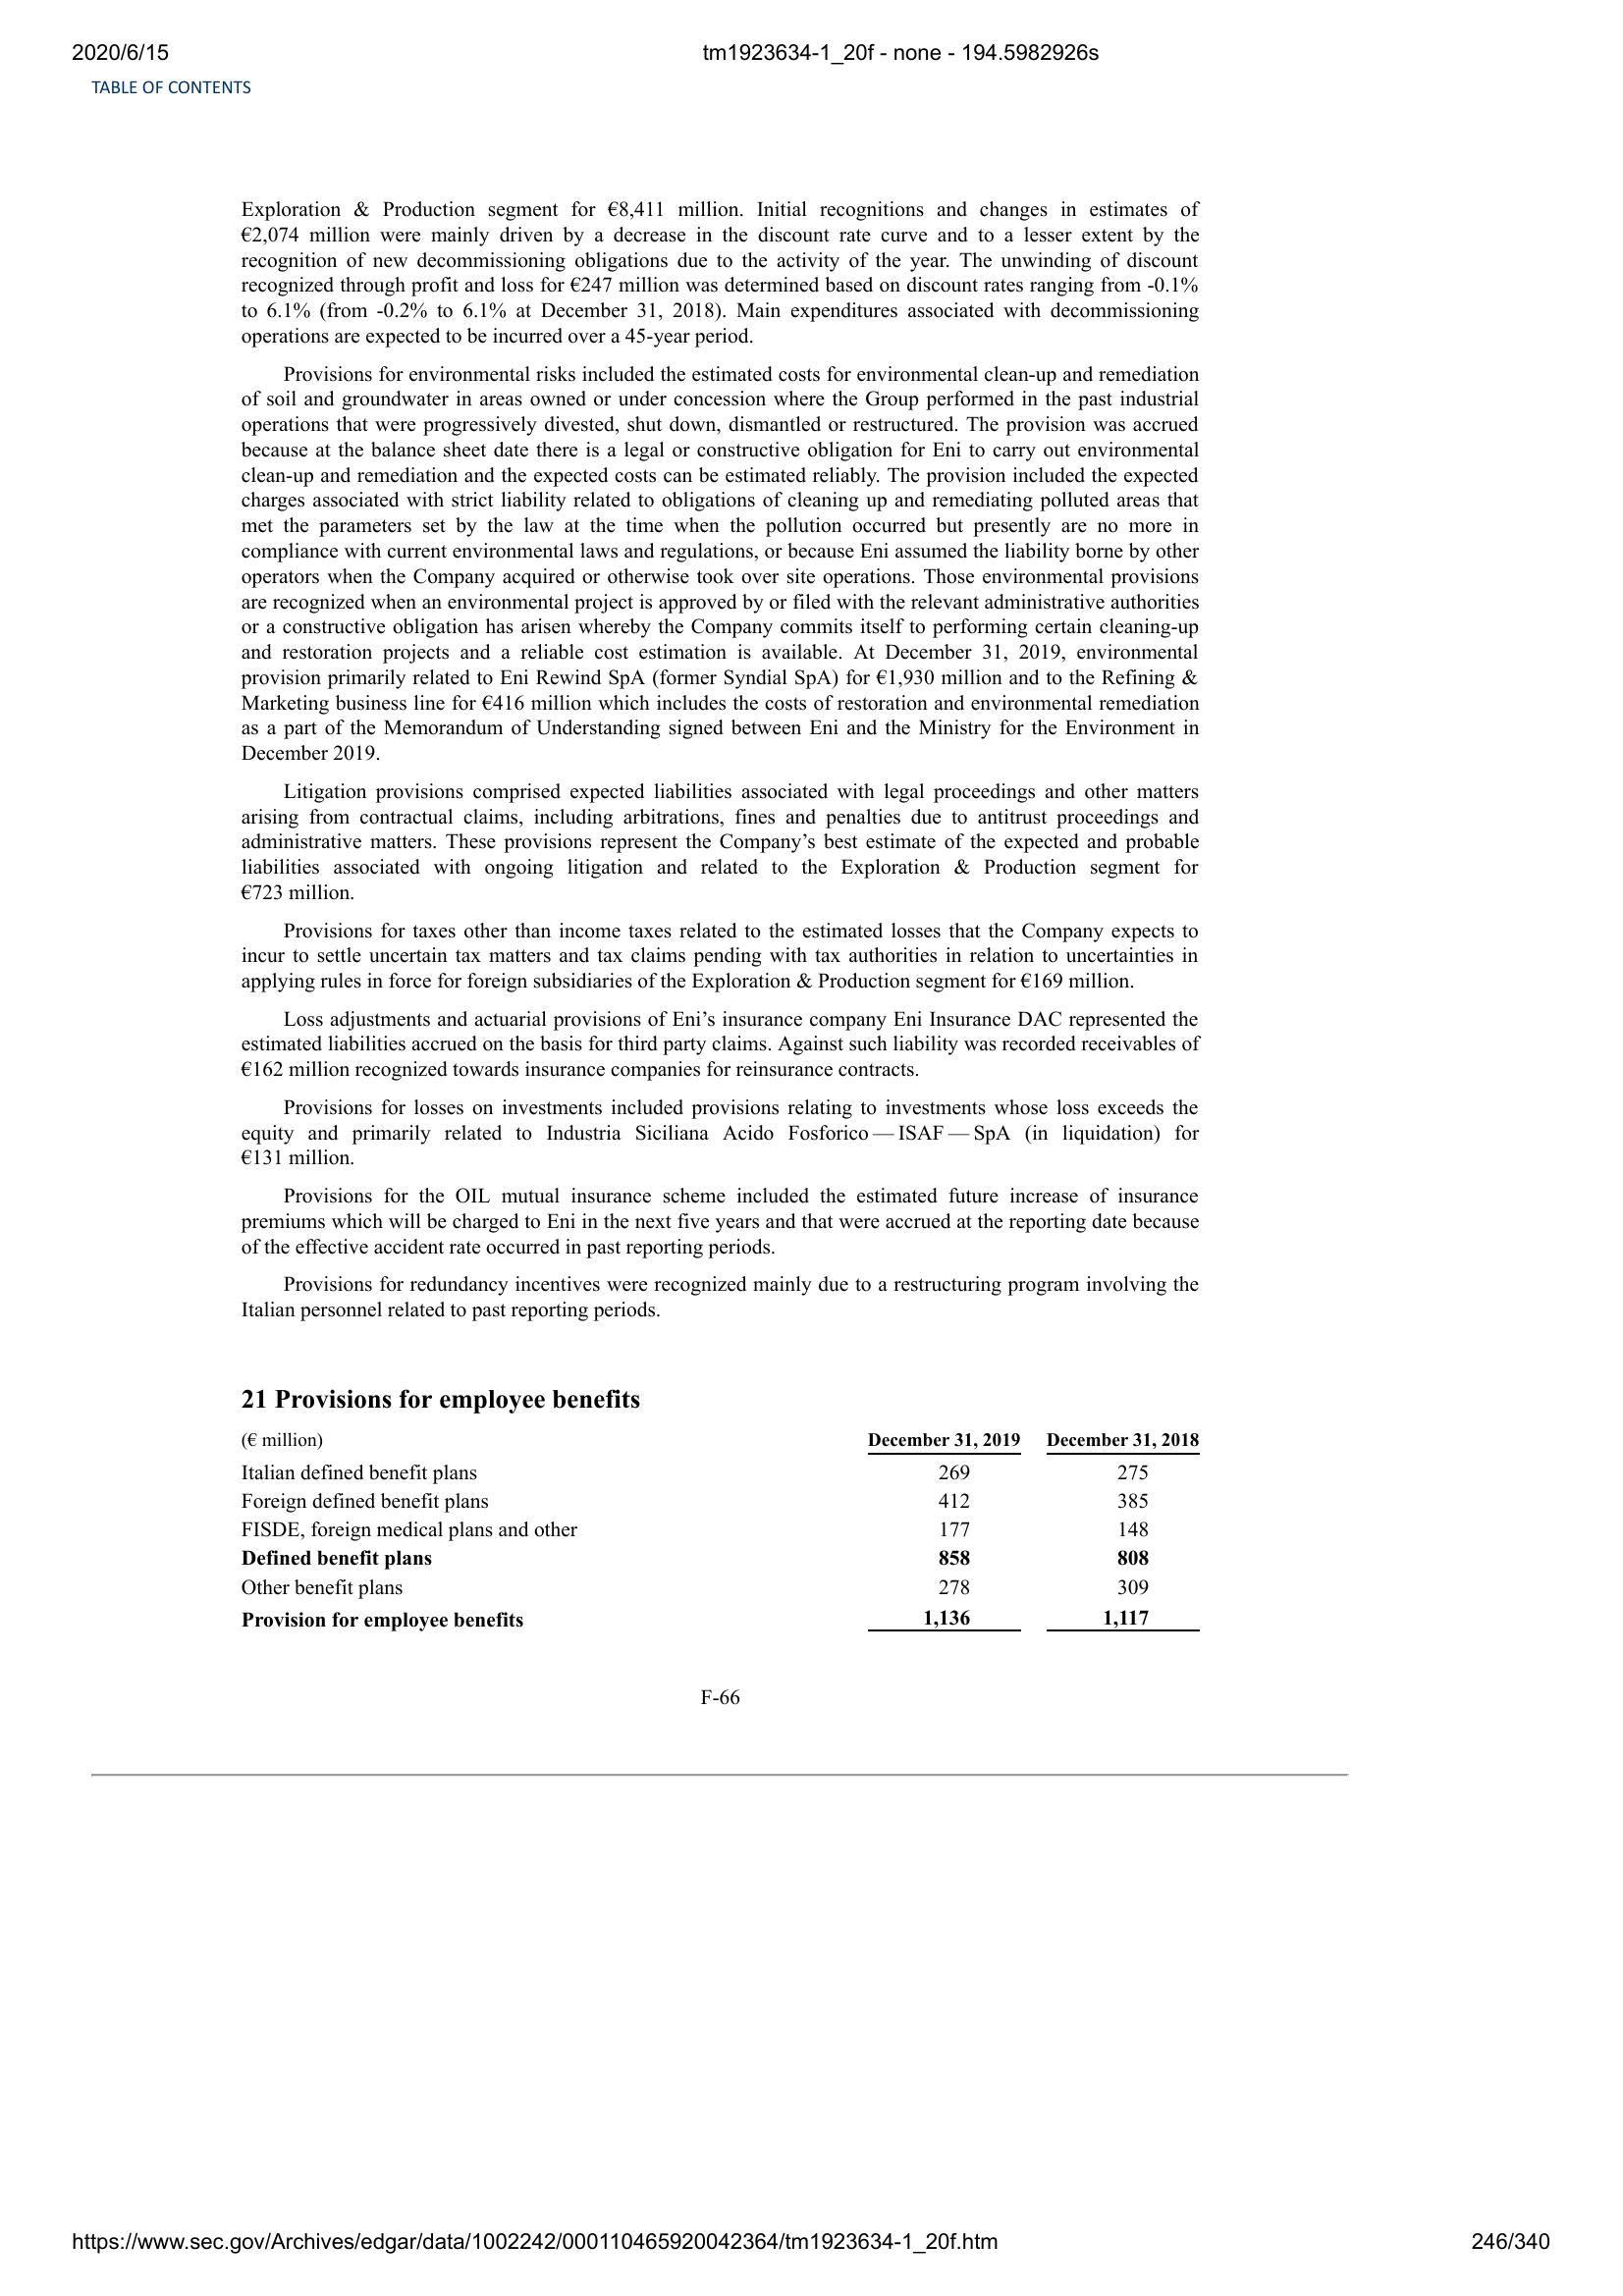table: (239, 1425, 1212, 1636)
